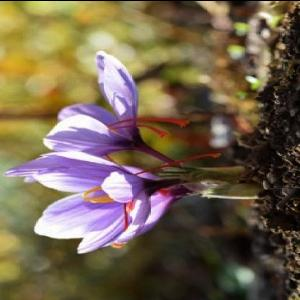Saffron: (26, 152, 174, 248), (44, 48, 164, 154), (74, 186, 184, 240)
